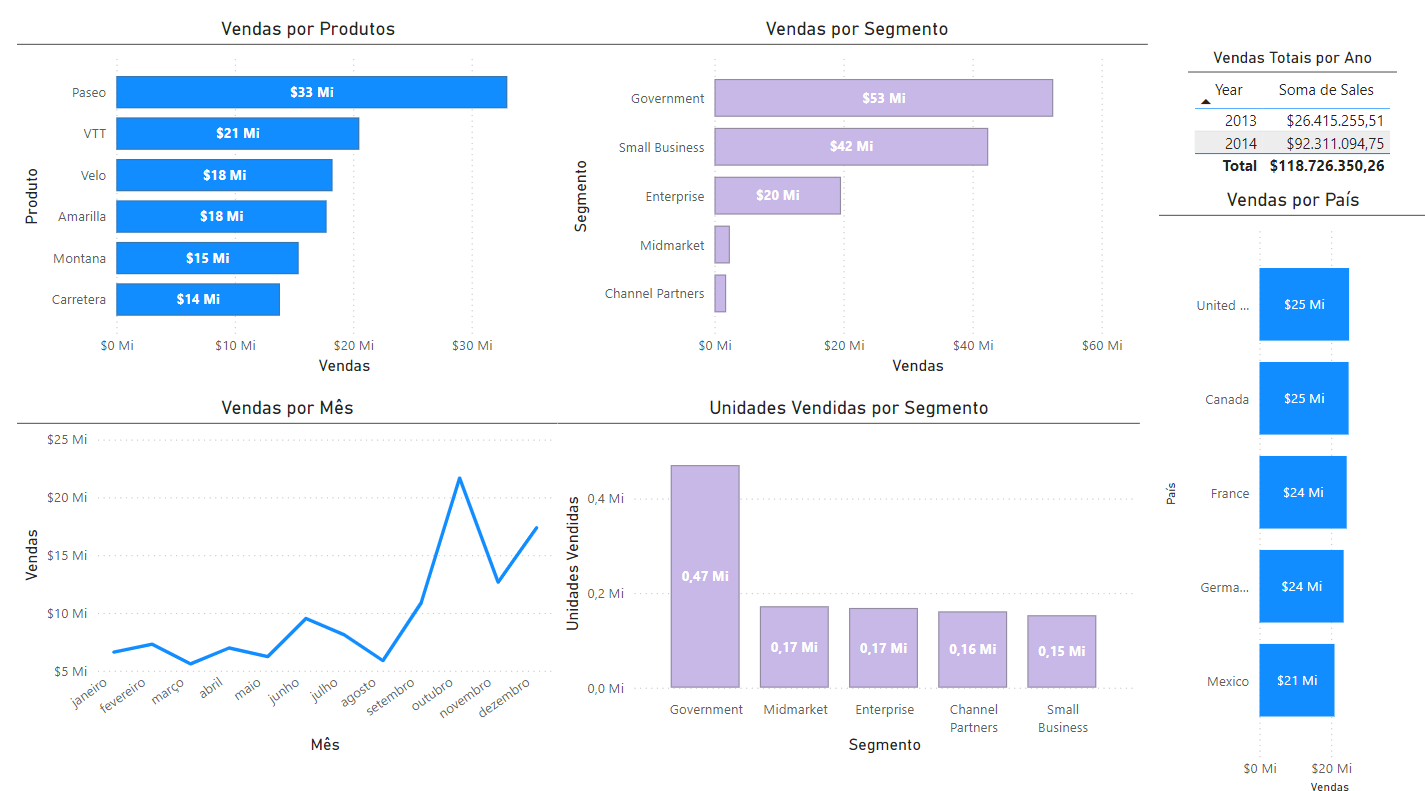

The page's visual inventory and layout, read from the dashboard file:
{"tool":"powerbi","page":{"name":"Vendas","canvas":[1280,720],"ordinal":0},"visuals":[{"type":"clusteredBarChart","title":"Vendas por Produtos","fields":{"Y":["Sum(financials. Sales)"],"Category":["financials.Product"]},"box":[17,20.6,521.2,324.2],"z":0},{"type":"clusteredBarChart","title":"Vendas por Segmento","fields":{"Y":["Sum(financials. Sales)"],"Category":["financials.Segment"]},"box":[508.7,20.6,521.2,324.2],"z":1},{"type":"tableEx","title":"Vendas Totais por Ano","fields":{"Values":["financials.Year","Sum(financials. Sales)"]},"box":[1065.7,48.4,187.2,125.4],"z":2},{"type":"columnChart","title":"Unidades Vendidas por Segmento","fields":{"Category":["financials.Segment"],"Y":["Sum(financials.Units Sold)"]},"box":[501.5,360,521.2,324.2],"z":4},{"type":"lineChart","title":"Vendas por Mês","fields":{"Y":["Sum(financials. Sales)"],"Category":["financials.Date.Variation.Hierarquia de datas.Mês"]},"box":[17,360,484,324],"z":5},{"type":"barChart","title":"Vendas por País","fields":{"Category":["financials.Country"],"Y":["Sum(financials. Sales)"]},"box":[1039.7,173.7,240,546.3],"z":6}]}

Visuals, with their boxes in screenshot pixels (x1, y1, x2, y2), scaled from the page's 1280x720 canvas onto the 1425x791 screenshot:
"Vendas por Produtos" clusteredBarChart: crop(19, 23, 599, 379)
"Vendas por Segmento" clusteredBarChart: crop(566, 23, 1147, 379)
"Vendas Totais por Ano" tableEx: crop(1186, 53, 1395, 191)
"Unidades Vendidas por Segmento" columnChart: crop(558, 396, 1139, 752)
"Vendas por Mês" lineChart: crop(19, 396, 558, 751)
"Vendas por País" barChart: crop(1157, 191, 1424, 790)
